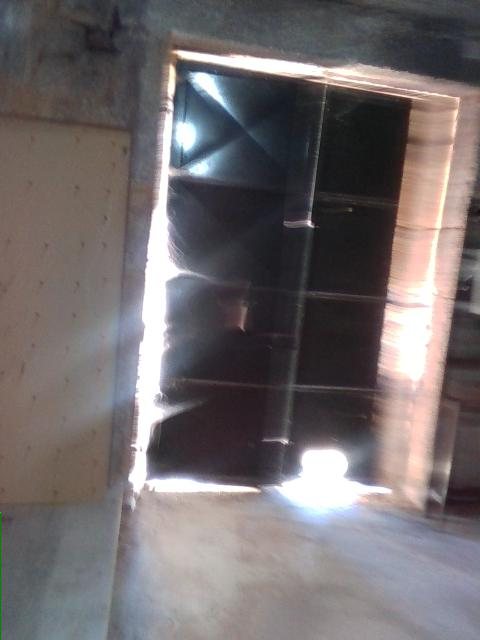closed_door: (124, 30, 479, 513)
